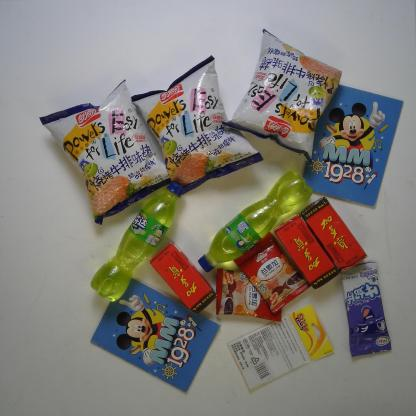Candy: (339, 261, 392, 358)
Drink: (197, 168, 314, 273), (90, 178, 186, 303), (300, 196, 368, 274), (272, 214, 341, 290), (149, 240, 217, 314)
Instant Drink: (233, 229, 310, 314), (215, 267, 283, 323)
Puffed Food: (40, 77, 173, 227), (132, 54, 264, 195), (221, 27, 344, 165)
Stationery: (90, 275, 221, 394), (298, 83, 405, 208), (227, 303, 336, 393)
